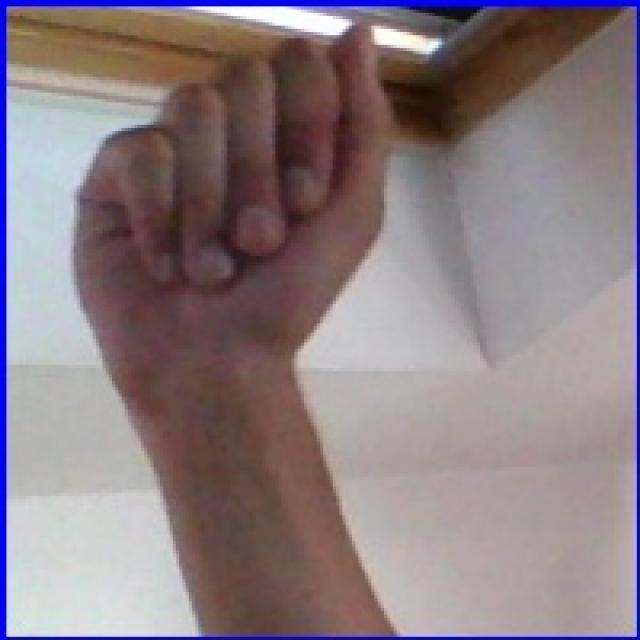Letra A: (67, 8, 413, 436)
